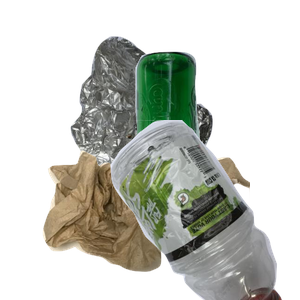glass: (129, 49, 300, 229)
metal: (68, 34, 300, 214)
plastic: (73, 120, 300, 300)
trash: (40, 138, 280, 300)
